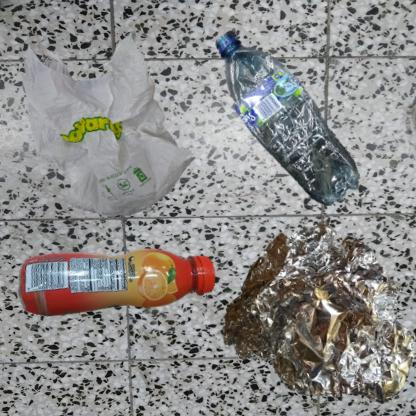aluminio: (213, 213, 416, 416)
bolsa: (10, 10, 217, 249)
botella: (213, 10, 382, 249), (10, 213, 249, 372)
